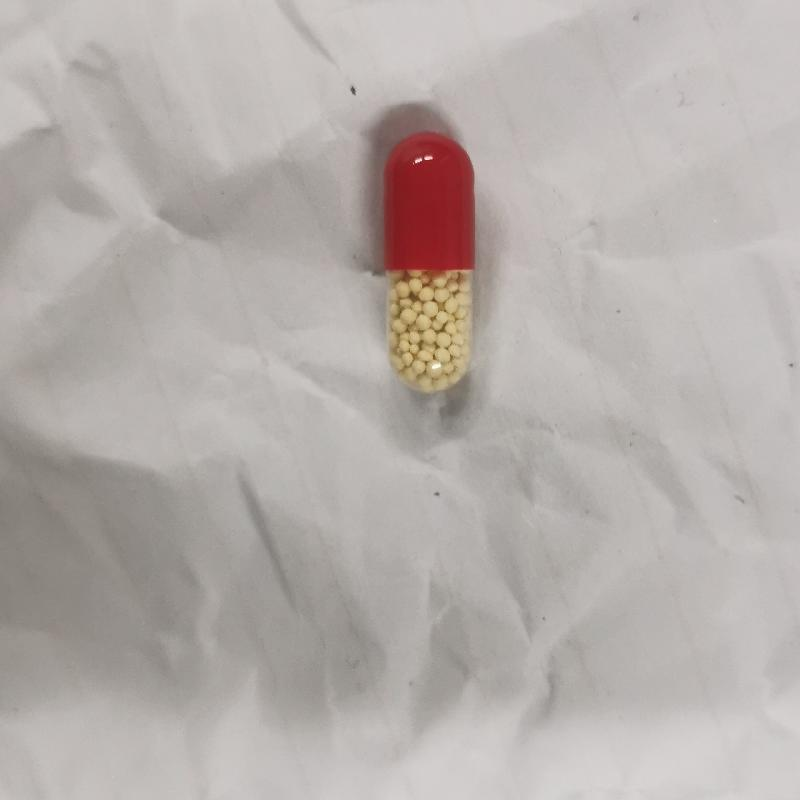pills: (375, 129, 486, 404)
